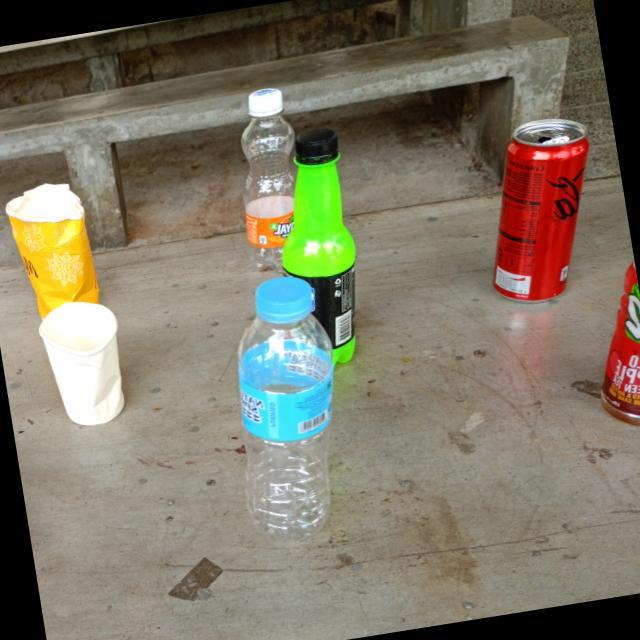recyclable waste: (204, 260, 374, 554), (252, 114, 388, 380), (456, 103, 622, 318), (210, 74, 326, 282), (0, 166, 111, 335), (27, 286, 146, 442), (570, 240, 640, 447)
